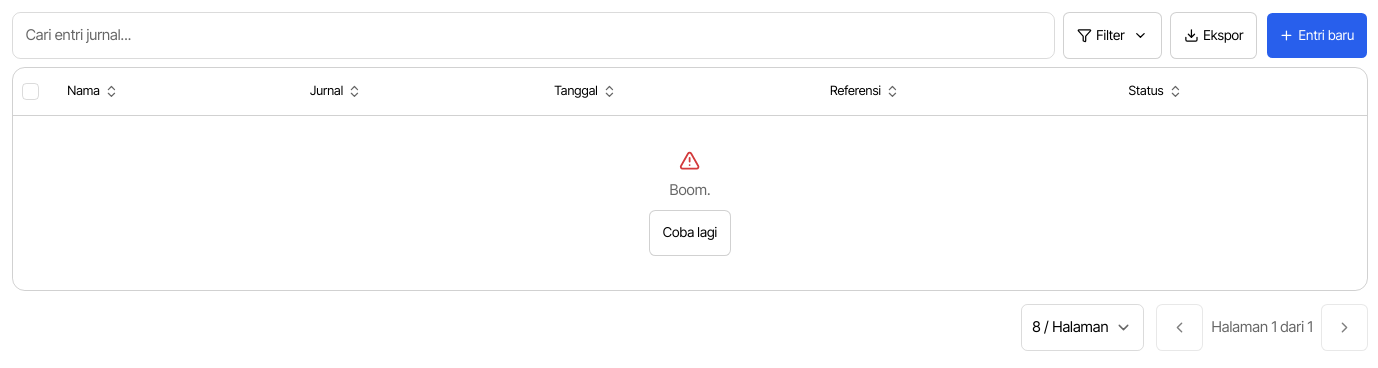
Test: JournalEntriesSection extra2 › retries after a load error
The width and height of the screenshot is (1378, 368).
Expected: the text "Boom." is shown, [670,180,711,201]
Click the button "Coba lagi": (690, 233) [649,210,731,256]
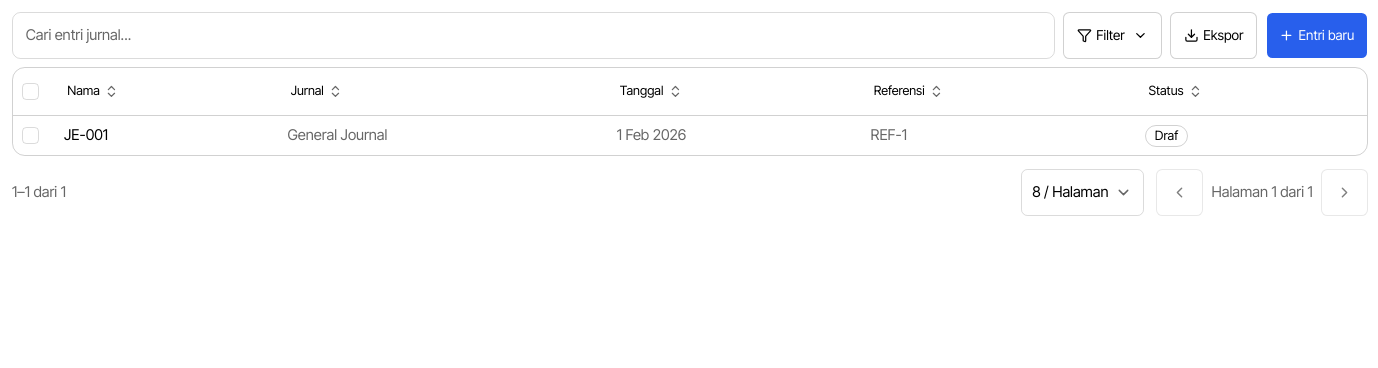
Result: the link "JE-001" is shown at [64,126,108,144]
